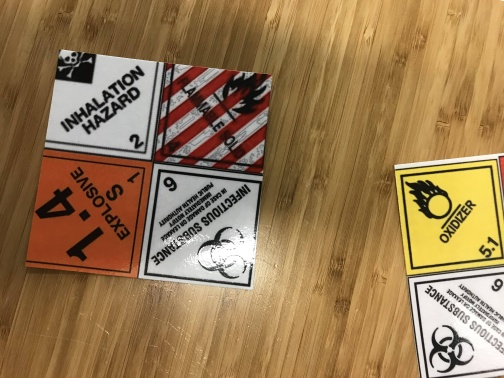Explosive: (26, 148, 151, 278)
FlammableSolid: (153, 63, 274, 176)
InfectiousSubstance: (137, 163, 264, 289), (408, 267, 502, 378)
InhalationHazard: (43, 49, 163, 160)
Oxidizer: (393, 159, 504, 276)
